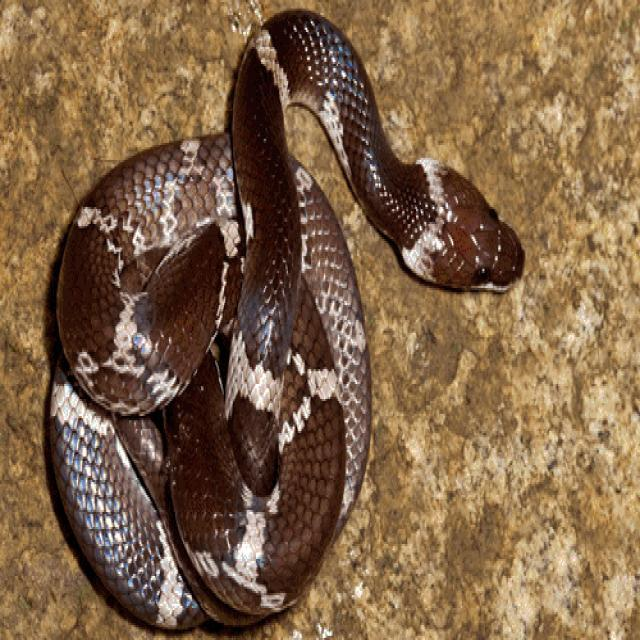Snake: (46, 6, 525, 632)
